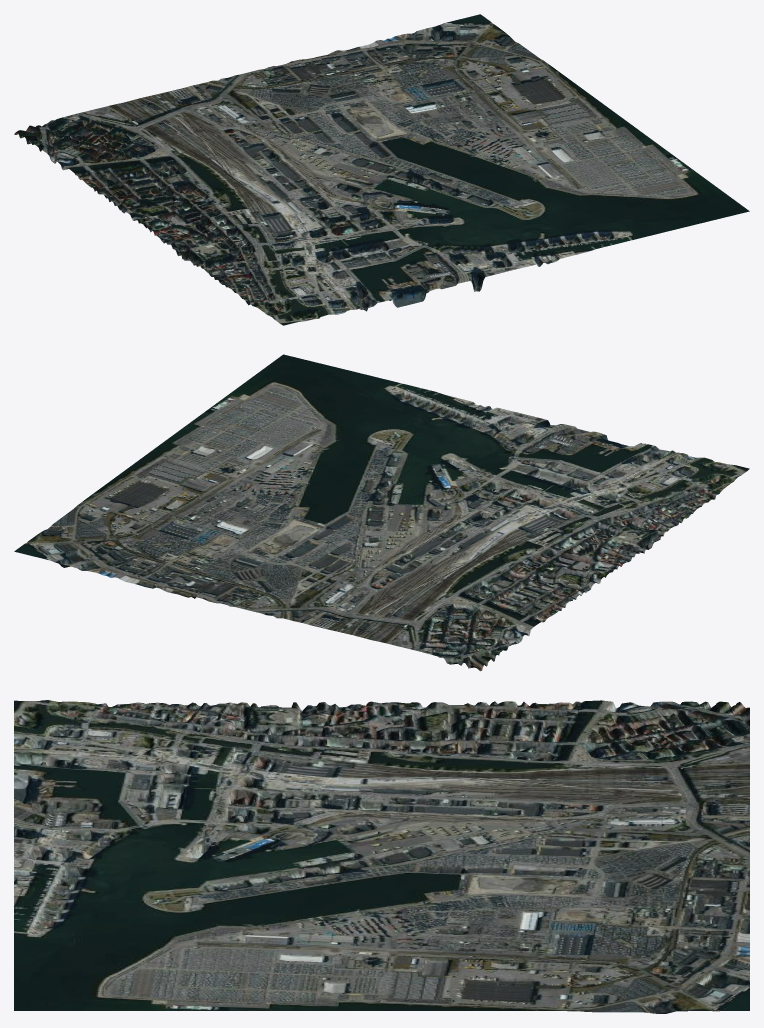
The model's file is map_10_251_425.dae.
The picture shows the model from 3 angles, top to bottom: view 1: azimuth 30°, elevation 25°; view 2: azimuth 150°, elevation 25°; view 3: azimuth 270°, elevation 25°; orthographic projection. The views are drawn at different scales.
Parts seen in each view (by area): view 1: Ter0; view 2: Ter0; view 3: Ter0.
Boxes of the visible parts, x1,y1,x2,y2 form: Ter0: (14, 14, 749, 325); Ter0: (14, 354, 749, 671); Ter0: (14, 700, 749, 1013).
Bounding box in the file's own units: 2044 × 2044 × 68.9.
Materials: 2 (2 with a texture image).
